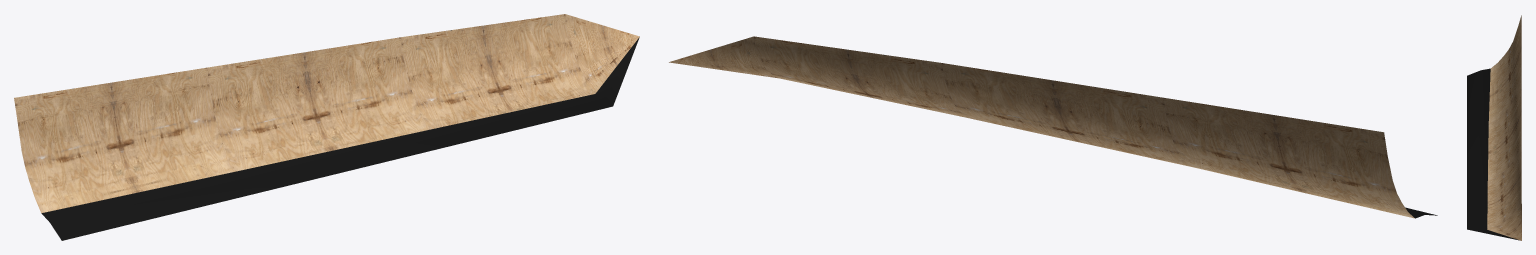
Rendered from quarterD.fbx.
The picture shows the model from 3 angles, left to right: view 1: azimuth 30°, elevation 25°; view 2: azimuth 150°, elevation 25°; view 3: azimuth 270°, elevation 25°; orthographic projection. The views are drawn at different scales.
Visible parts, largest first — view 1: quarterD; view 2: quarterD; view 3: quarterD.
Boxes of the visible parts, x1,y1,x2,y2 form: quarterD: [14, 14, 639, 240]; quarterD: [669, 36, 1437, 218]; quarterD: [1467, 15, 1521, 240].
Bounding box in the file's own units: 970 × 161 × 129.
